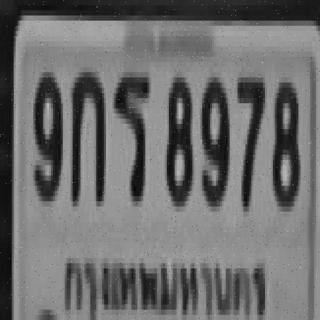A01: (69, 67, 104, 201)
A35: (112, 67, 149, 201)
N07: (236, 72, 263, 206)
N08: (271, 77, 298, 206), (165, 72, 190, 201)
N09: (32, 67, 61, 196), (200, 72, 228, 201)
P04: (61, 248, 270, 320)
